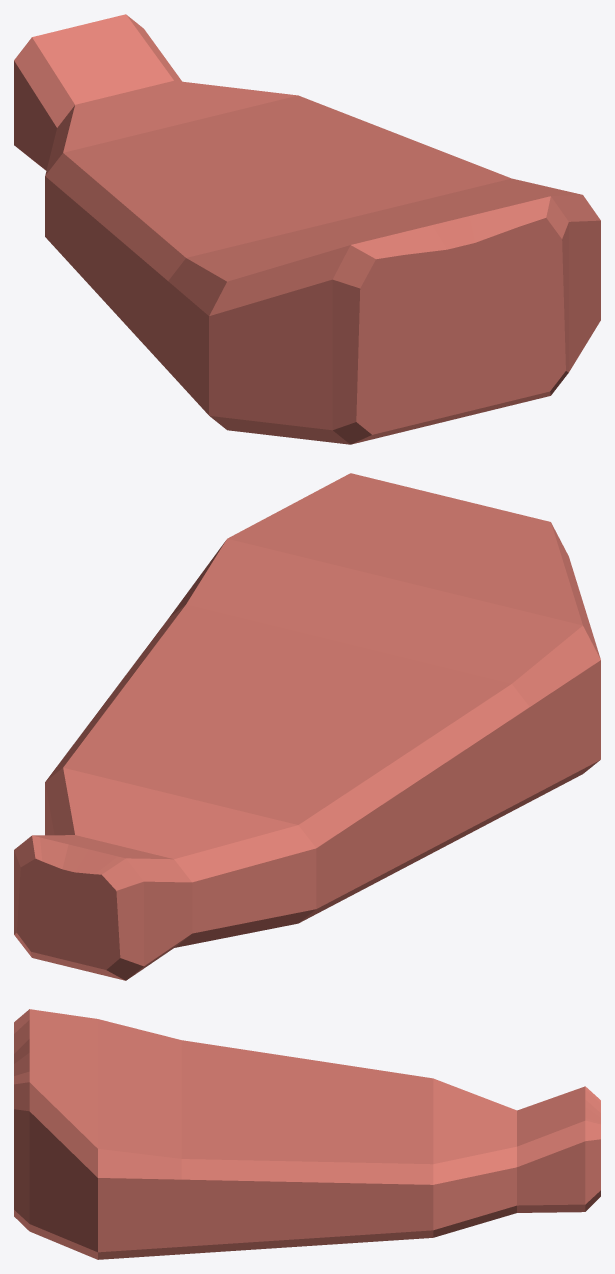
File: calder_medium_a.glb
The picture shows the model from 3 angles, top to bottom: view 1: azimuth 30°, elevation 25°; view 2: azimuth 150°, elevation 25°; view 3: azimuth 270°, elevation 25°; orthographic projection. The views are drawn at different scales.
Visible parts, largest first — view 1: calder_medium_a; view 2: calder_medium_a; view 3: calder_medium_a.
Boxes of the visible parts, x1,y1,x2,y2 form: calder_medium_a: (14, 14, 600, 444); calder_medium_a: (14, 473, 600, 980); calder_medium_a: (14, 1009, 600, 1259).
Size of the model in its own units: 3.4 by 1.66 by 5.9.
